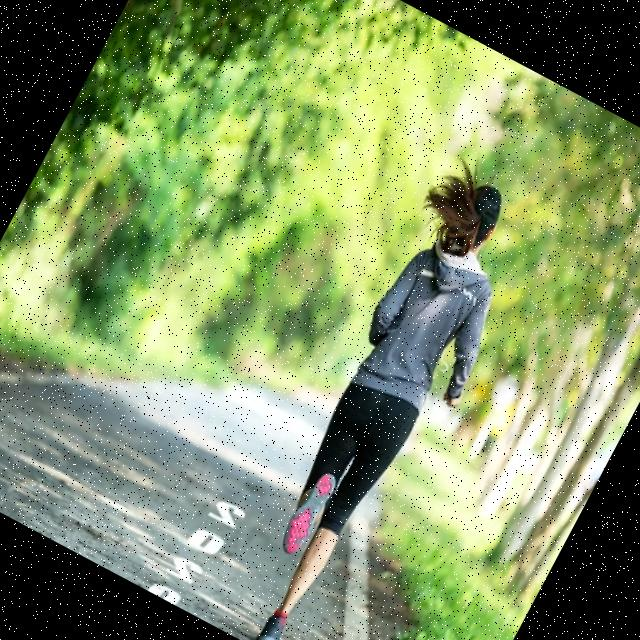Person: (209, 163, 556, 640)
